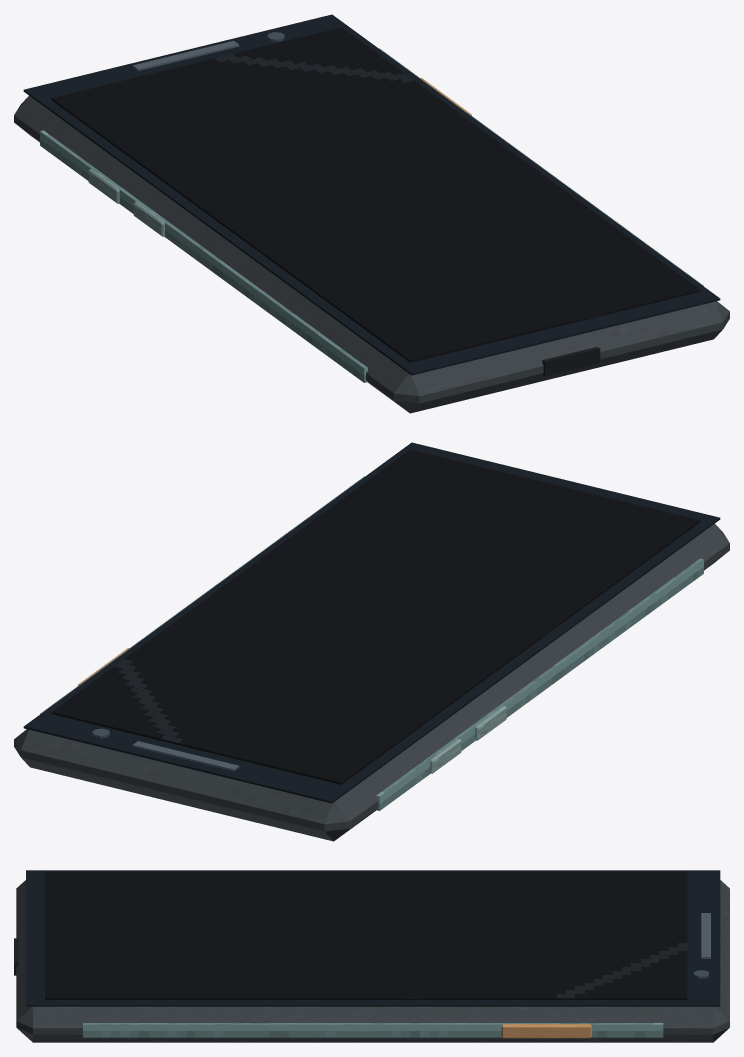
Rendered from smart_phone.glb.
3 renders of one model, top to bottom at view 1: azimuth 30°, elevation 25°; view 2: azimuth 150°, elevation 25°; view 3: azimuth 270°, elevation 25°, orthographic. The views are drawn at different scales.
Visible parts, largest first — view 1: block_screen, block_graphite bumper, block_black glass border, block_brushed rail -0.0365, block_USB charging socket, block_earpiece; view 2: block_screen, block_graphite bumper, block_black glass border, block_brushed rail -0.0365, block_earpiece; view 3: block_screen, block_graphite bumper, block_black glass border, block_brushed rail 0.0365, block_power, block_earpiece.
Part boxes in pixels (x1,y1,x2,y2): block_screen: [51, 27, 700, 362]; block_graphite bumper: [14, 95, 729, 413]; block_black glass border: [23, 14, 720, 375]; block_brushed rail -0.0365: [40, 130, 367, 382]; block_USB charging socket: [542, 346, 600, 376]; block_earpiece: [132, 40, 239, 70]; block_screen: [51, 449, 700, 784]; block_graphite bumper: [14, 523, 729, 841]; block_black glass border: [23, 442, 720, 803]; block_brushed rail -0.0365: [376, 558, 703, 810]; block_earpiece: [132, 741, 239, 771]; block_screen: [45, 871, 687, 999]; block_graphite bumper: [16, 880, 729, 1042]; block_black glass border: [26, 870, 720, 1006]; block_brushed rail 0.0365: [83, 1023, 663, 1037]; block_power: [501, 1024, 591, 1038]; block_earpiece: [701, 913, 710, 958].
Size of the model in its own units: 0.075 by 0.0096 by 0.1505.
1 material, 1 textured.
